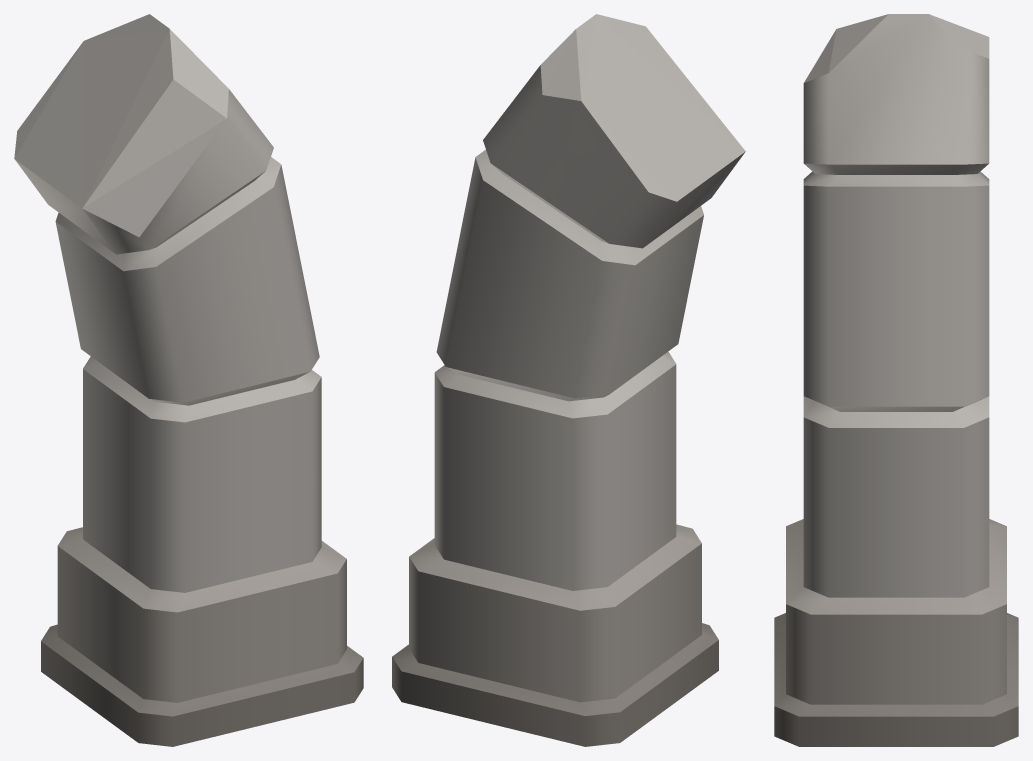
File: Arch 02.FBX
3 renders of one model, left to right at view 1: azimuth 30°, elevation 25°; view 2: azimuth 150°, elevation 25°; view 3: azimuth 270°, elevation 25°, orthographic.
Parts seen in each view (by area): view 1: Arch 02; view 2: Arch 02; view 3: Arch 02.
Boxes of the visible parts, x1=… form: Arch 02: x1=14, y1=14, x2=363, y2=746; Arch 02: x1=392, y1=14, x2=745, y2=746; Arch 02: x1=774, y1=14, x2=1018, y2=746.
Bounding box in the file's own units: 123 × 292 × 97.97.
Materials: 1 (1 with a texture image).
